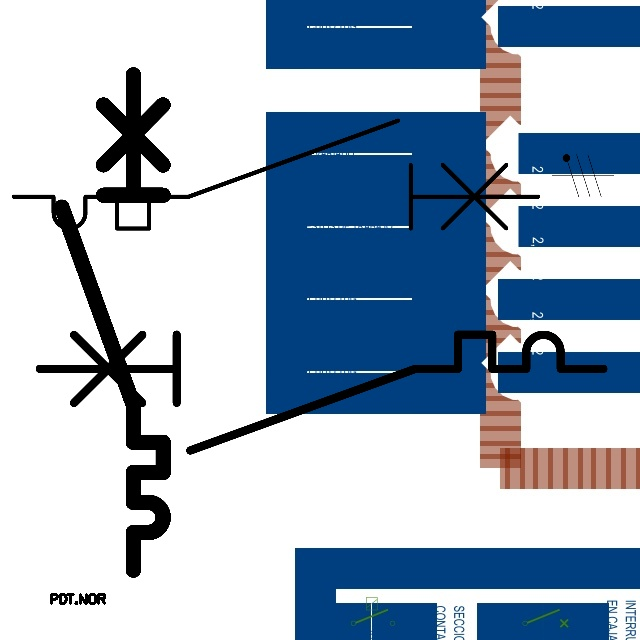interruptor_termomagnetico: (25, 320, 618, 465), (0, 107, 551, 242), (49, 62, 176, 583)
